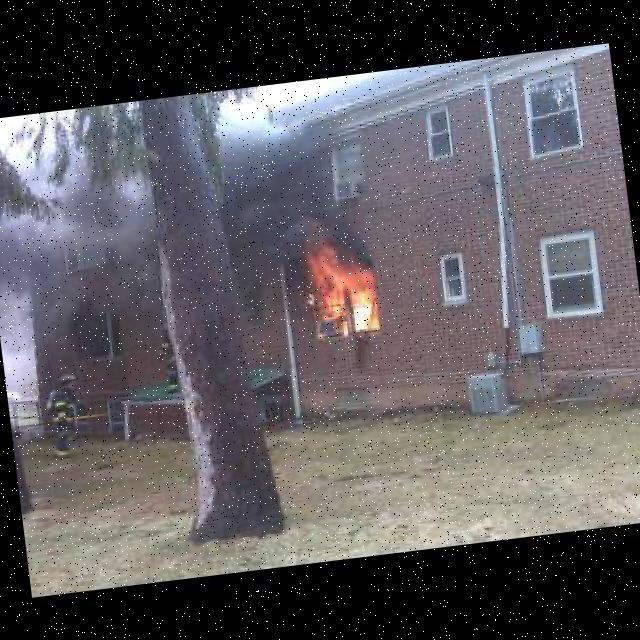fire: (283, 212, 390, 352)
